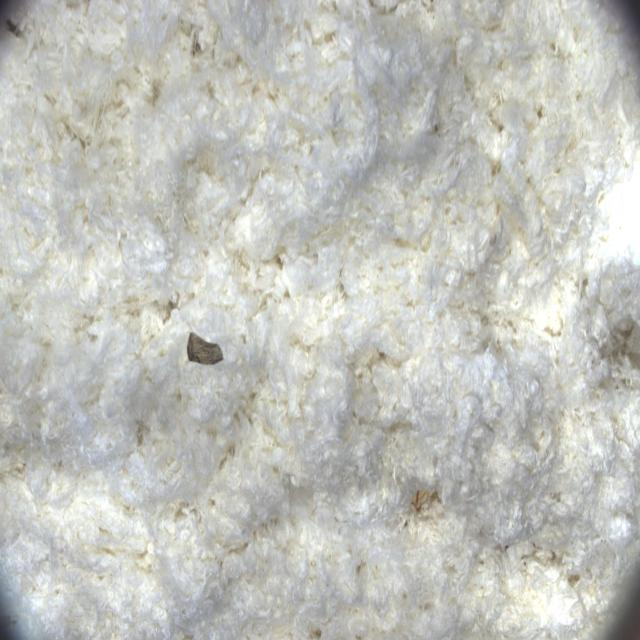dust: (162, 287, 245, 400)
